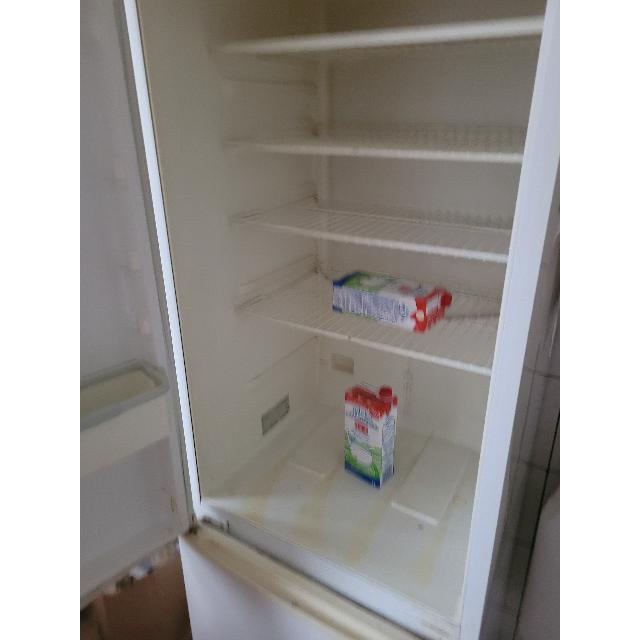milk: (330, 270, 452, 334), (342, 378, 398, 487)
